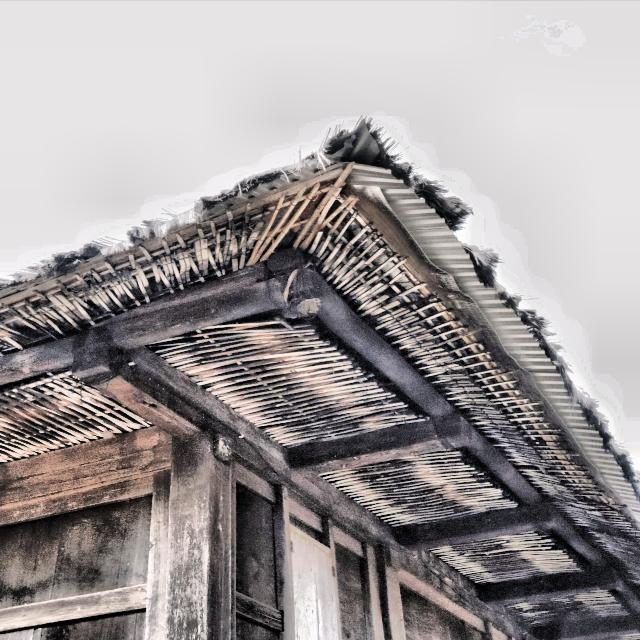roof: (2, 124, 640, 640)
wall: (0, 415, 541, 638)
